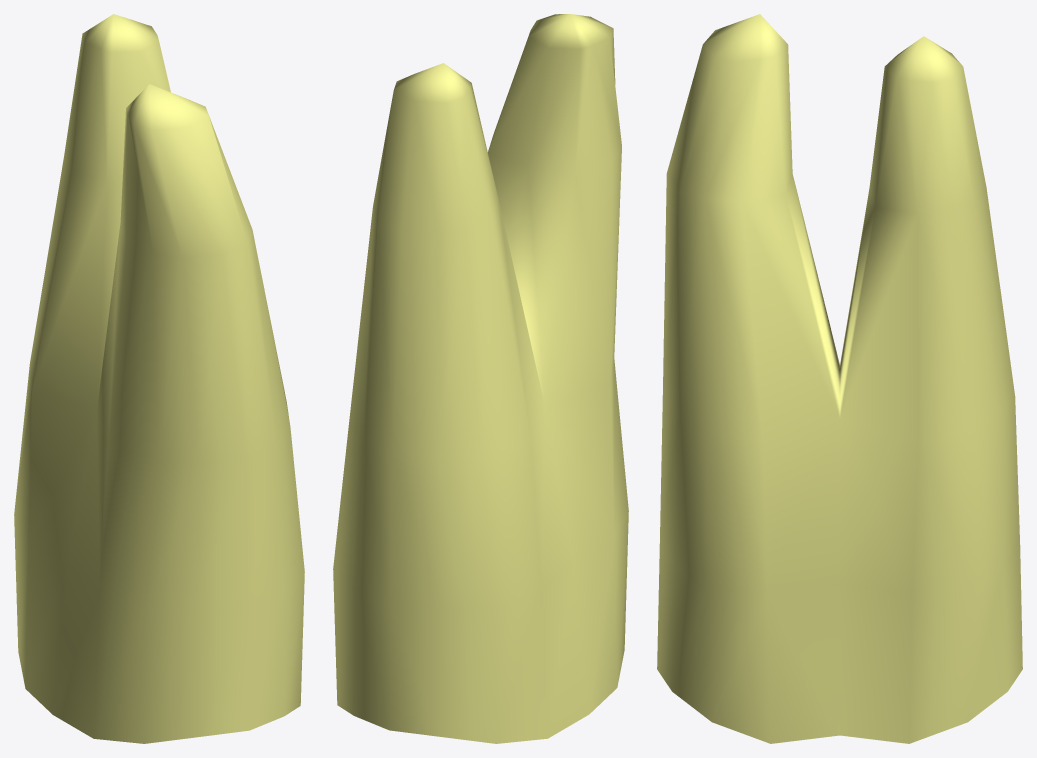
Rendered from D14R_Raiz.obj.
3 renders of one model, left to right at view 1: azimuth 30°, elevation 25°; view 2: azimuth 150°, elevation 25°; view 3: azimuth 270°, elevation 25°, orthographic.
Visible parts, largest first — view 1: D14R_Raiz; view 2: D14R_Raiz; view 3: D14R_Raiz.
Part boxes in pixels (x1,y1,x2,y2): D14R_Raiz: [14, 14, 304, 743]; D14R_Raiz: [333, 14, 628, 743]; D14R_Raiz: [657, 14, 1022, 743].
Size of the model in its own units: 4.86 by 14.53 by 7.34.
